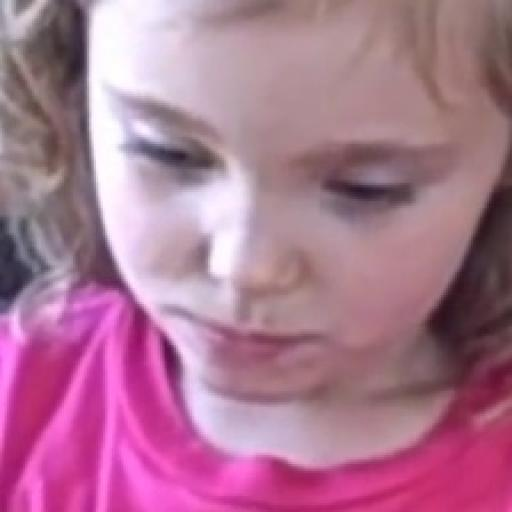Autism: (56, 21, 500, 420)
